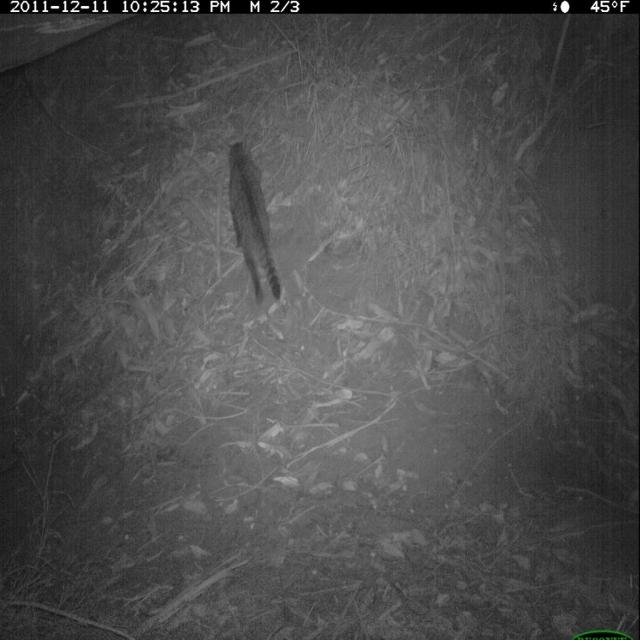cat: (223, 135, 293, 320)
